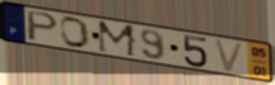5: (181, 33, 209, 68)
9: (139, 28, 167, 61)
M: (96, 19, 138, 59)
O: (59, 16, 92, 50)
P: (26, 9, 61, 43)
V: (212, 37, 247, 74)
